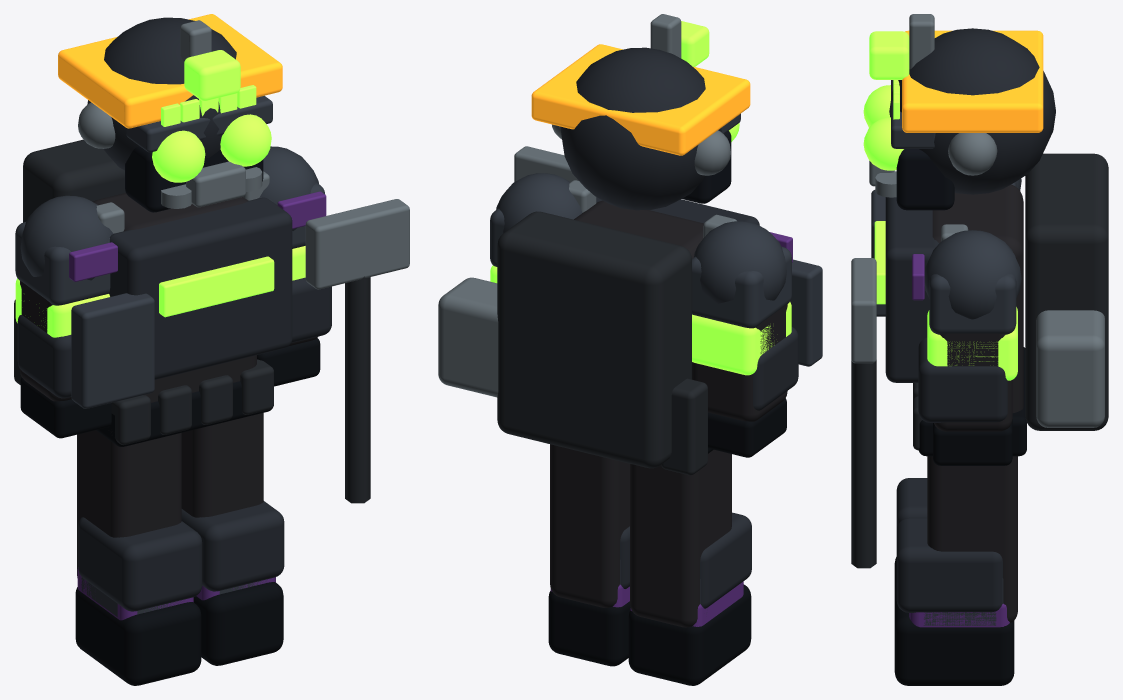
Rendered from engineer_l05.glb.
3 renders of one model, left to right at view 1: azimuth 30°, elevation 25°; view 2: azimuth 150°, elevation 25°; view 3: azimuth 270°, elevation 25°, orthographic. The views are drawn at different scales.
Parts seen in each view (by area): view 1: segmented_vest, trouser (×2), shaped_knee_guard (×2), boot (×2), welding_guard, safety_helmet_band, axe_head, shoulder_joint (×2), rounded_helmet, axe_handle, forearm_plate (×2), field_pack (+24 smaller); view 2: field_pack, trouser (×2), rounded_helmet, boot (×2), safety_helmet_band, shoulder_joint (×2), repair_canister, shoulder_plate (×2), rank_stripe, sleeve, tool_roll, shaped_knee_guard (+11 smaller); view 3: field_pack, rounded_helmet, trouser, shaped_knee_guard (×2), repair_canister, boot, safety_helmet_band, segmented_vest, shoulder_joint, axe_handle, forearm_plate, body (+19 smaller).
Boxes of the visible parts, x1=… form: segmented_vest: x1=109, y1=197, x2=292, y2=379; trouser (×2): x1=77, y1=413, x2=263, y2=577; shaped_knee_guard (×2): x1=78, y1=501, x2=284, y2=611; boot (×2): x1=75, y1=582, x2=283, y2=685; welding_guard: x1=71, y1=293, x2=154, y2=408; safety_helmet_band: x1=58, y1=14, x2=282, y2=128; axe_head: x1=305, y1=199, x2=409, y2=289; shoulder_joint (×2): x1=20, y1=146, x2=318, y2=280; rounded_helmet: x1=87, y1=17, x2=236, y2=170; axe_handle: x1=345, y1=276, x2=370, y2=503; forearm_plate (×2): x1=17, y1=277, x2=331, y2=398; field_pack: x1=23, y1=139, x2=125, y2=222; field_pack: x1=497, y1=211, x2=691, y2=468; trouser (×2): x1=550, y1=444, x2=731, y2=627; rounded_helmet: x1=560, y1=47, x2=721, y2=210; boot (×2): x1=548, y1=584, x2=751, y2=685; safety_helmet_band: x1=531, y1=44, x2=750, y2=155; shoulder_joint (×2): x1=496, y1=173, x2=786, y2=303; repair_canister: x1=438, y1=277, x2=498, y2=397; shoulder_plate (×2): x1=490, y1=208, x2=791, y2=328; rank_stripe: x1=692, y1=302, x2=791, y2=375; sleeve: x1=692, y1=304, x2=787, y2=421; tool_roll: x1=661, y1=378, x2=707, y2=475; shaped_knee_guard: x1=700, y1=512, x2=751, y2=608; field_pack: x1=1025, y1=153, x2=1108, y2=430; rounded_helmet: x1=889, y1=28, x2=1055, y2=194; trouser: x1=927, y1=456, x2=1017, y2=622; shaped_knee_guard (×2): x1=896, y1=478, x2=1002, y2=612; repair_canister: x1=1036, y1=310, x2=1104, y2=427; boot: x1=894, y1=597, x2=1014, y2=685; safety_helmet_band: x1=902, y1=30, x2=1043, y2=132; segmented_vest: x1=885, y1=197, x2=939, y2=382; shoulder_joint: x1=924, y1=230, x2=1021, y2=319; axe_handle: x1=851, y1=360, x2=876, y2=568; forearm_plate: x1=918, y1=337, x2=1007, y2=422; body: x1=932, y1=184, x2=1023, y2=412.
Bounding box in the file's own units: 1.03 × 1.93 × 0.71.
